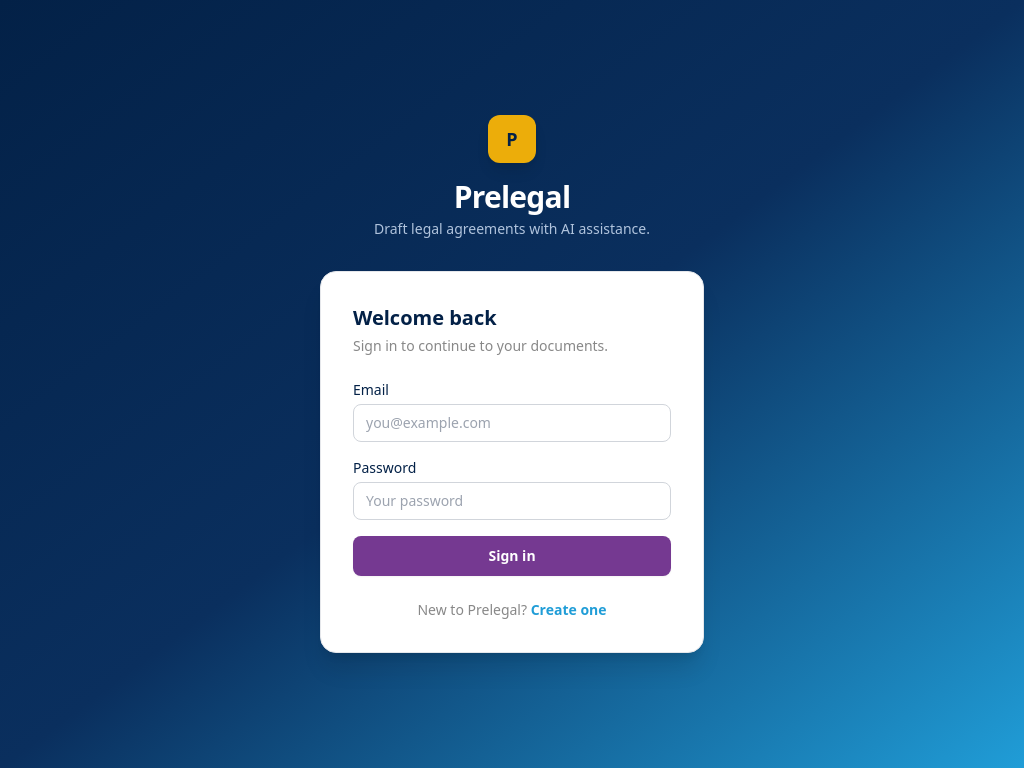
Test: AuthScreen › shows an error when authentication fails
In the field labelled "Email": [512, 423] box [353,404,671,442], type "user@example.com"
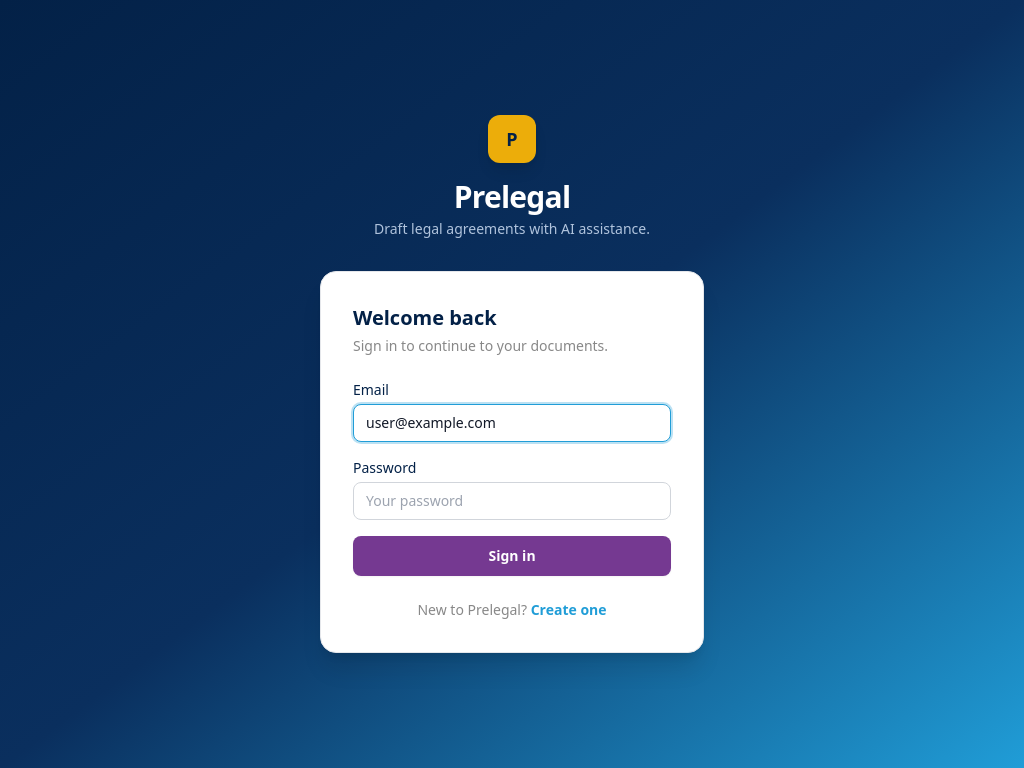
In the password field labelled "Password": [512, 501] box [353,482,671,520], type "wrongpw"
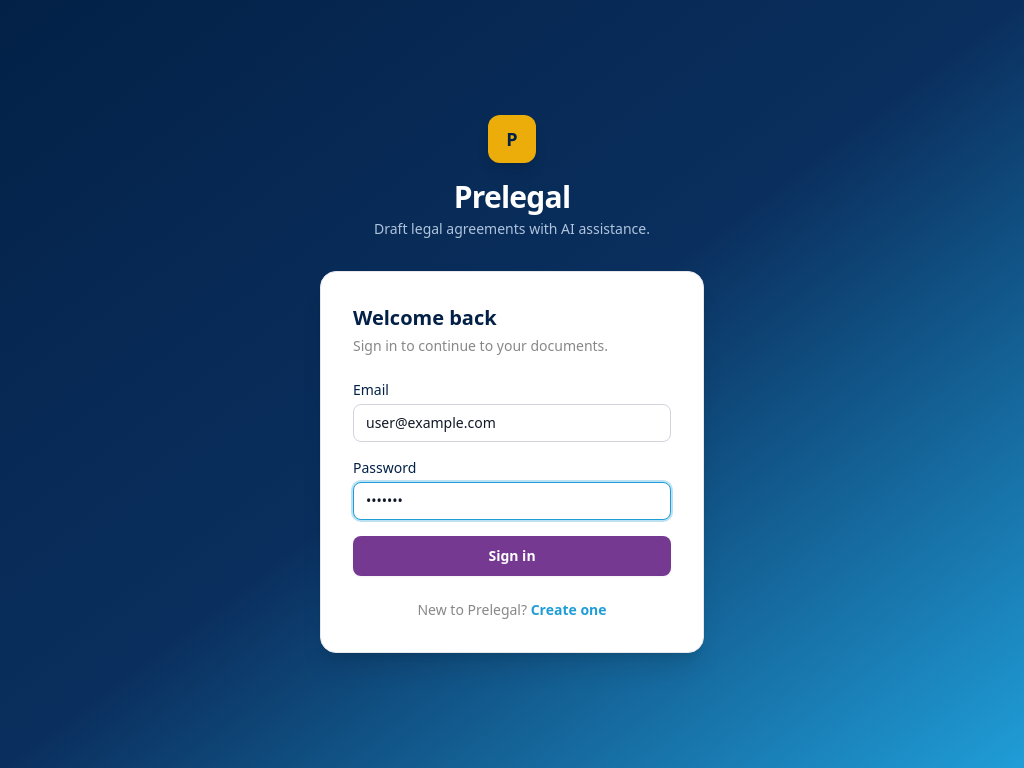
Click the button "Sign in": [512, 556] box [353,536,671,576]
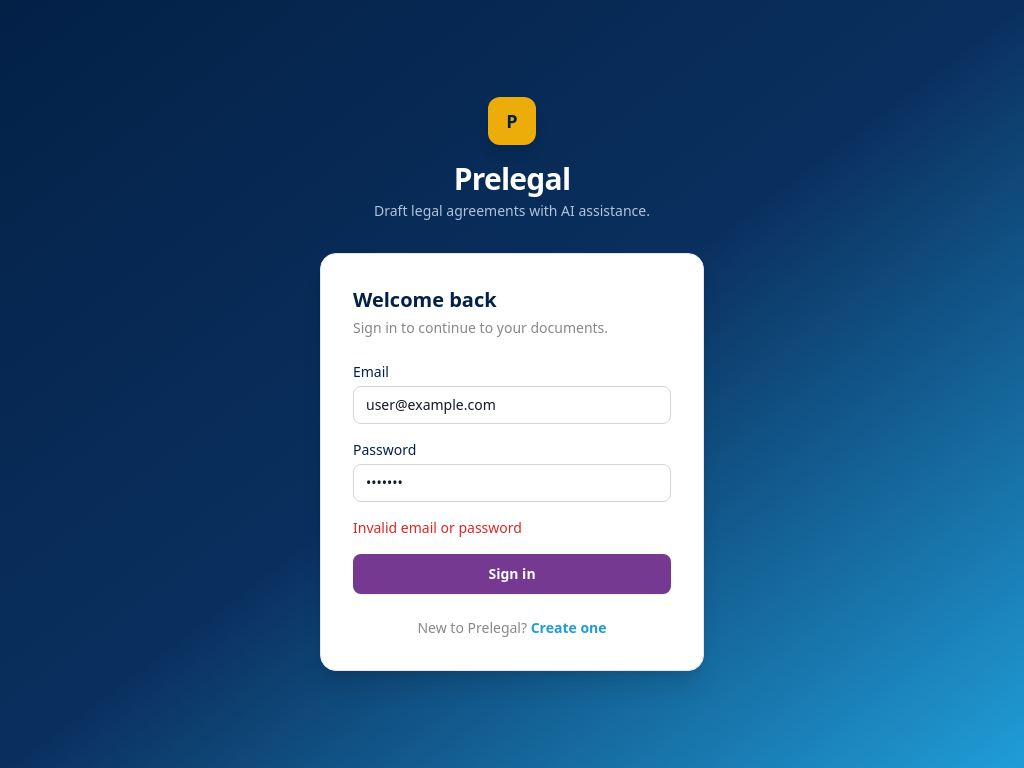
Now the message reads "Invalid email or password", box [353,518,522,537]
